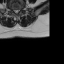CCS_normal: (15, 7, 18, 15)
LFS_severe_stenosis: (20, 7, 22, 12)
LLS_normal: (17, 7, 20, 12)
RFS_severe_stenosis: (11, 7, 13, 12)
RLS_stenosis: (13, 7, 15, 13)
